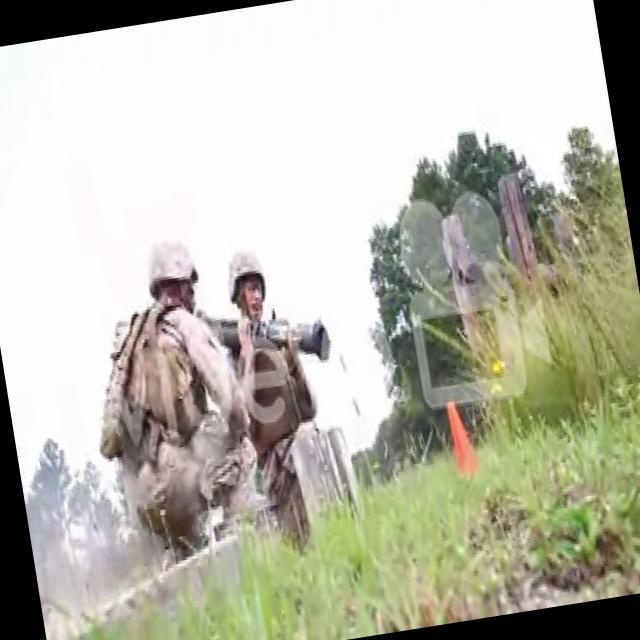rocket: (198, 292, 332, 379)
